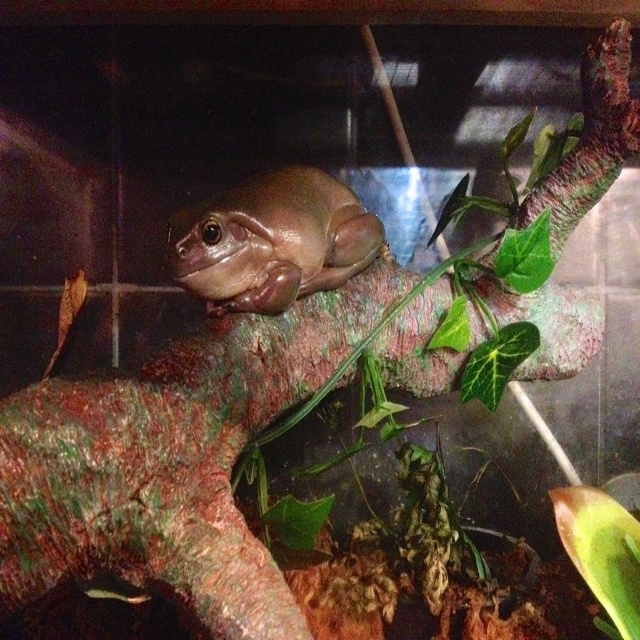Frog: (166, 161, 386, 319)
